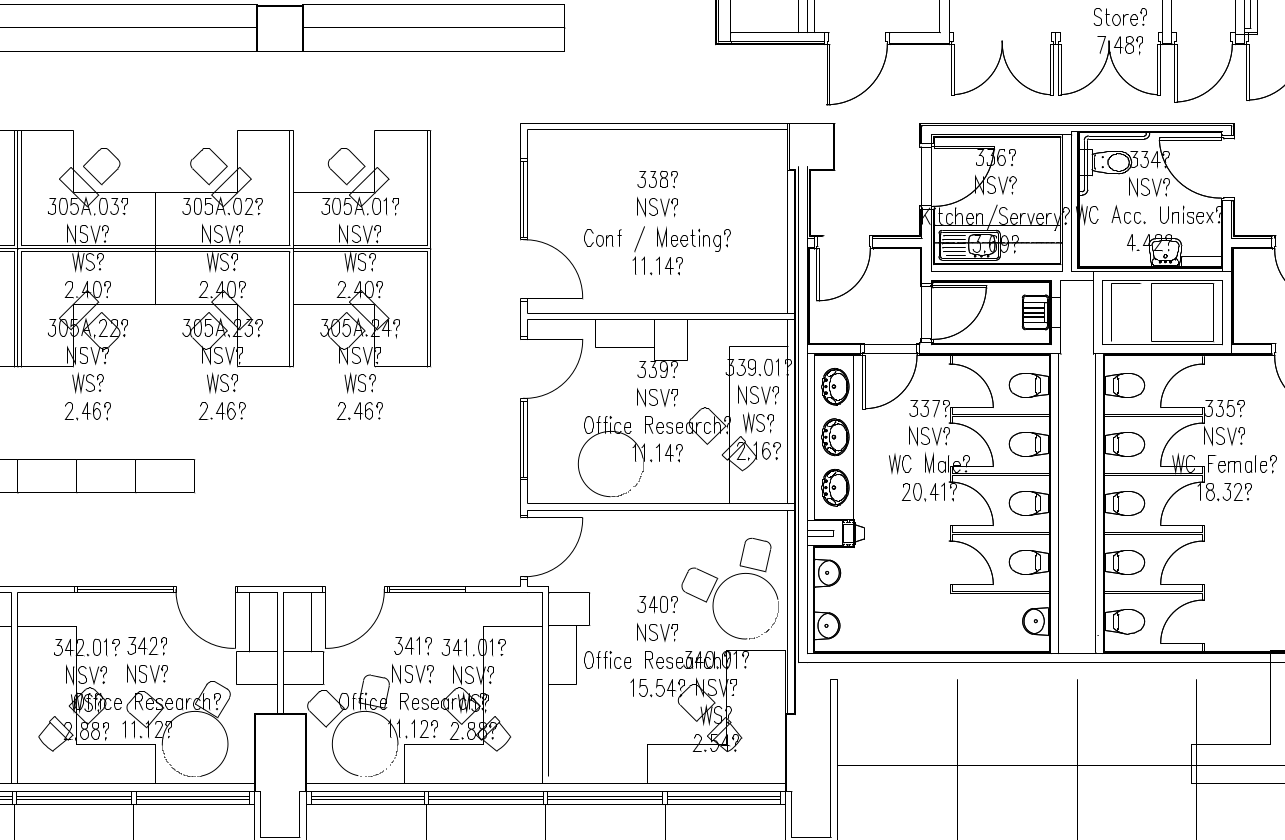door: (946, 42, 1056, 103), (1055, 40, 1165, 101), (822, 42, 893, 109), (1156, 132, 1221, 200), (1169, 42, 1237, 104), (174, 589, 240, 651), (320, 592, 386, 654), (518, 513, 584, 575), (521, 335, 587, 397), (521, 239, 587, 301), (815, 245, 876, 307), (857, 349, 918, 411), (928, 284, 993, 341), (1154, 360, 1209, 411), (1155, 417, 1210, 468), (1154, 479, 1209, 530), (1154, 536, 1209, 587), (1154, 596, 1209, 647), (945, 538, 1000, 589), (944, 480, 999, 531), (944, 420, 999, 471), (945, 361, 1000, 412)
